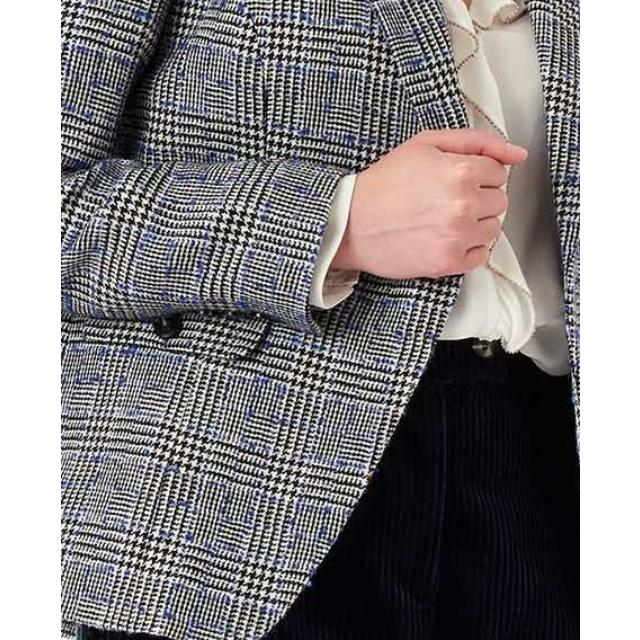wool: (61, 0, 580, 362)
